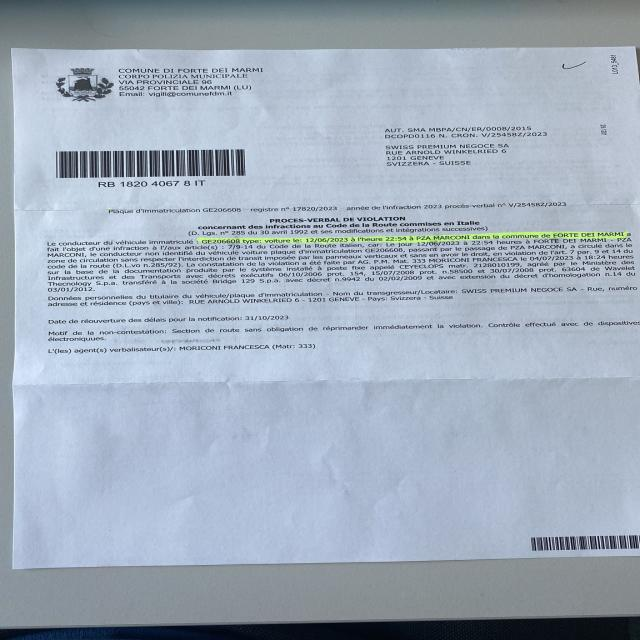paper-document-: (11, 47, 640, 573)
